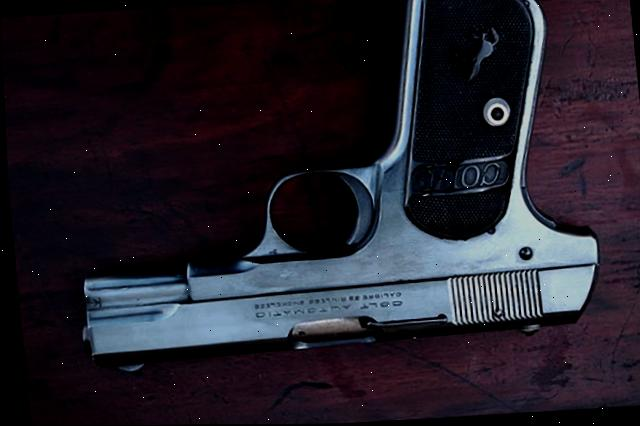pistol: (45, 0, 602, 375)
